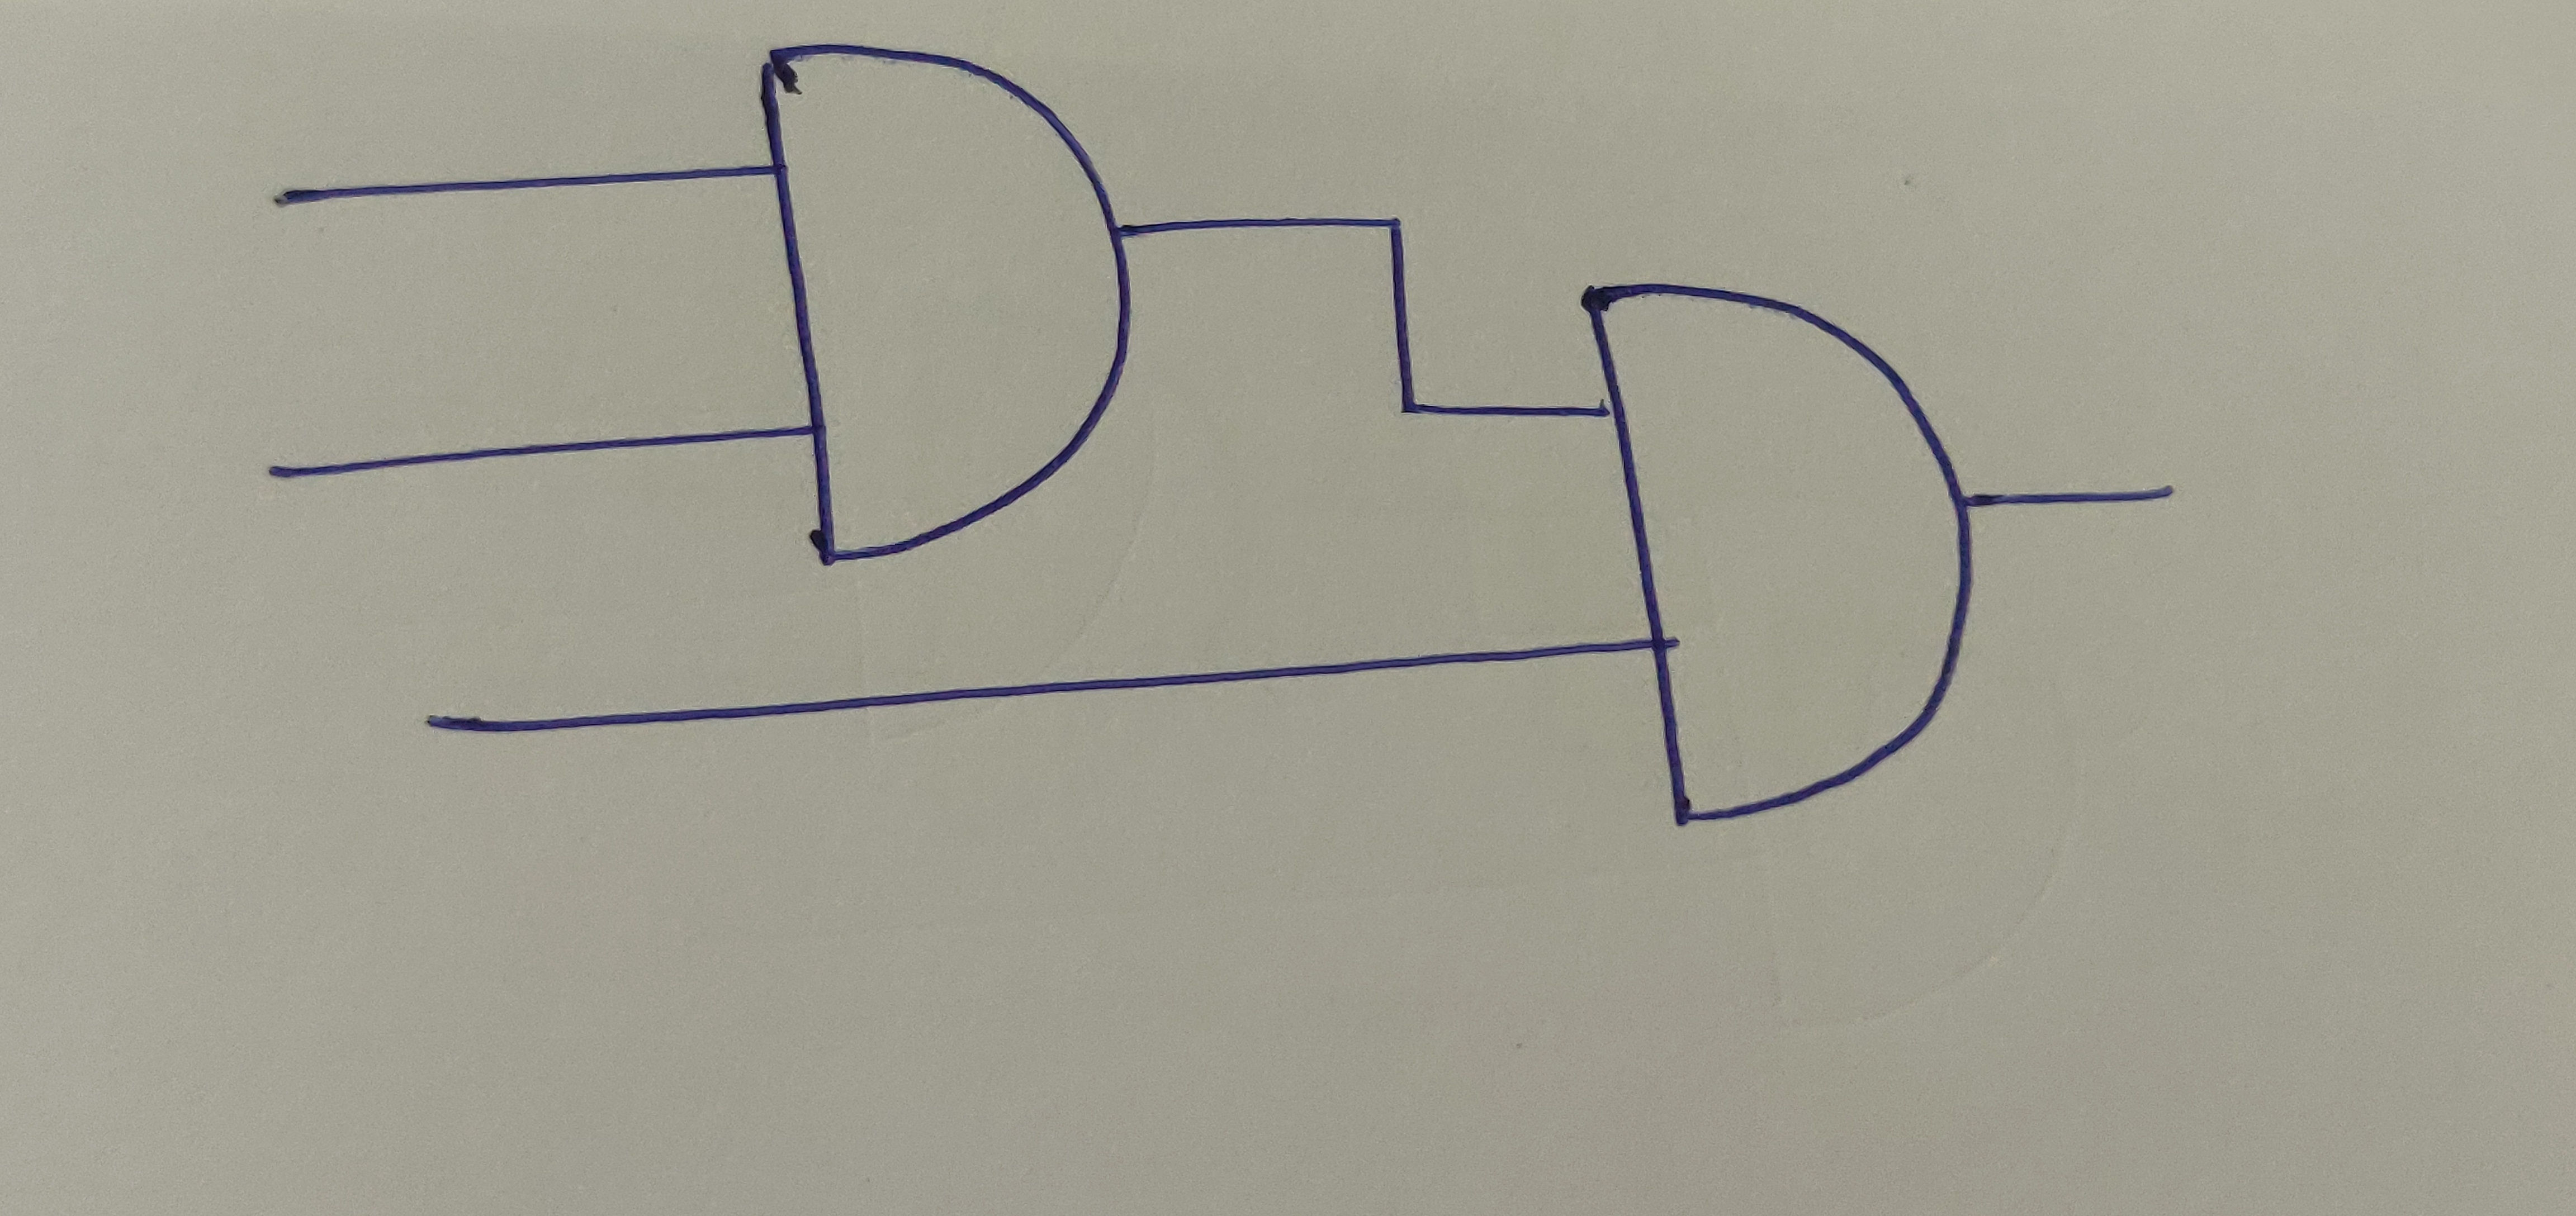and: (1579, 281, 1980, 830), (754, 35, 1134, 565)
